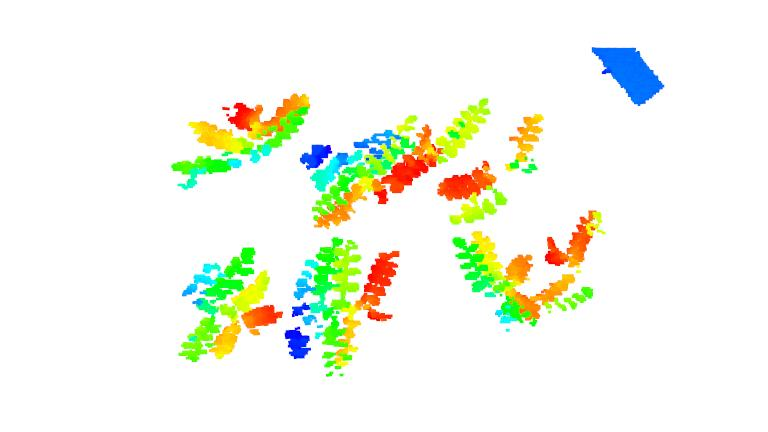chickpea: (279, 240, 404, 379), (165, 88, 310, 193), (301, 114, 423, 228), (178, 242, 279, 363), (437, 113, 543, 225), (375, 99, 488, 202), (454, 229, 539, 328), (530, 209, 604, 314)
